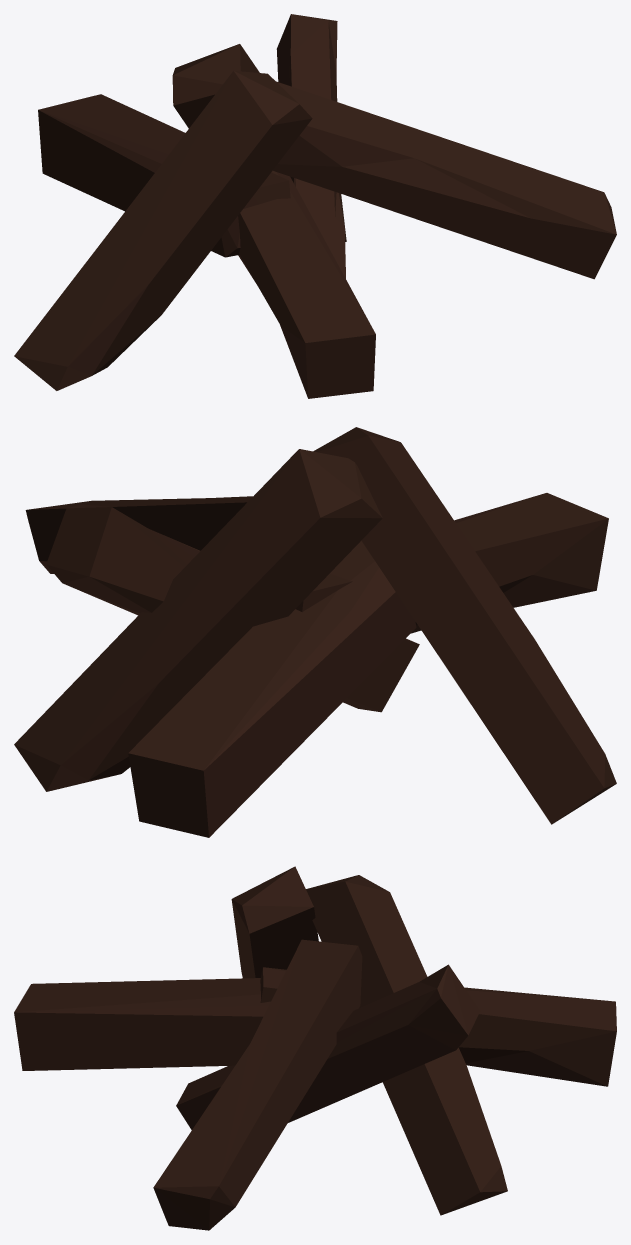
File: SM_firewood_batch.fbx
The picture shows the model from 3 angles, top to bottom: view 1: azimuth 30°, elevation 25°; view 2: azimuth 150°, elevation 25°; view 3: azimuth 270°, elevation 25°; orthographic projection. The views are drawn at different scales.
Parts seen in each view (by area): view 1: Object301; view 2: Object301; view 3: Object301.
Part boxes in pixels (box(x1,y1,x2,y2)): Object301: box(14, 14, 616, 398); Object301: box(14, 427, 616, 837); Object301: box(14, 866, 616, 1230).
Size of the model in its own units: 44.76 by 21.88 by 44.98.
